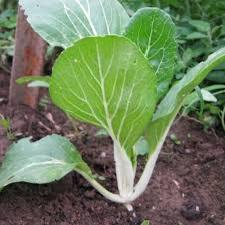Healthy-Pechay: (21, 2, 210, 208)
